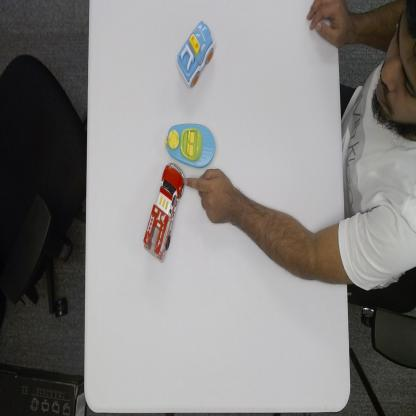Arm: (230, 193, 346, 286)
Boat: (165, 120, 216, 169)
Car: (174, 20, 217, 90)
Firetruck: (141, 161, 185, 264)
Hand: (183, 166, 228, 225), (305, 0, 340, 45)
